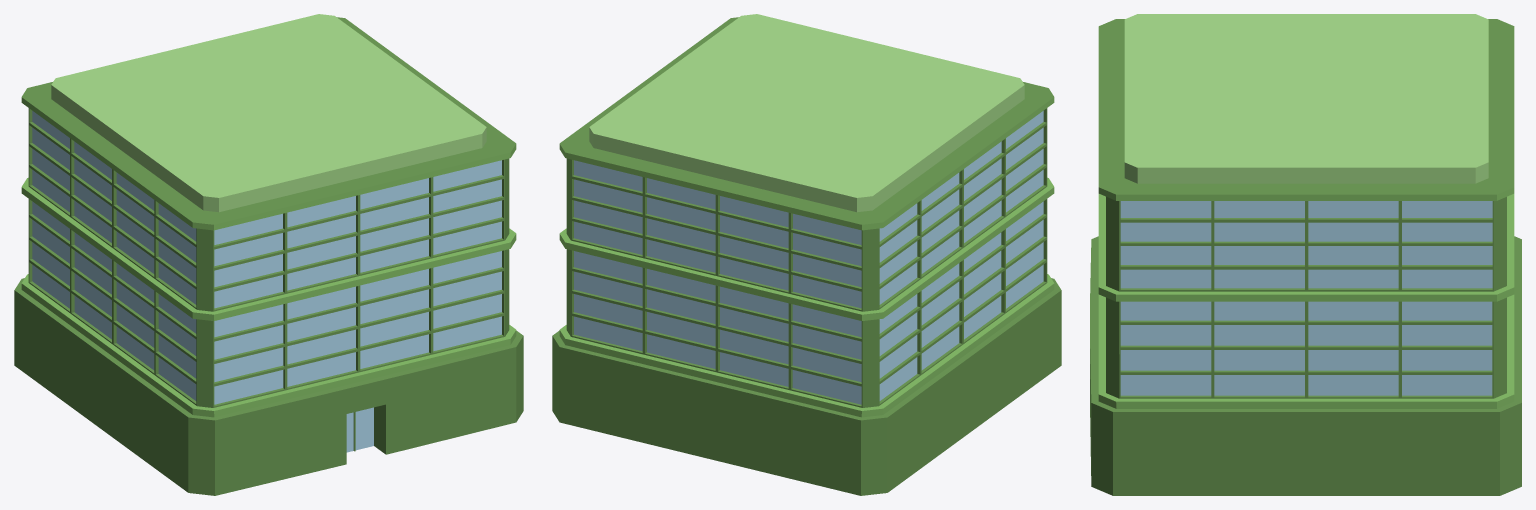
Rendered from Office.fbx.
3 renders of one model, left to right at view 1: azimuth 30°, elevation 25°; view 2: azimuth 150°, elevation 25°; view 3: azimuth 270°, elevation 25°, orthographic. The views are drawn at different scales.
Parts seen in each view (by area): view 1: Office; view 2: Office; view 3: Office.
Part boxes in pixels (x1,y1,x2,y2): Office: [14, 14, 523, 495]; Office: [552, 14, 1061, 495]; Office: [1090, 14, 1521, 495].
Size of the model in its own units: 2732 by 2199 by 2739.
